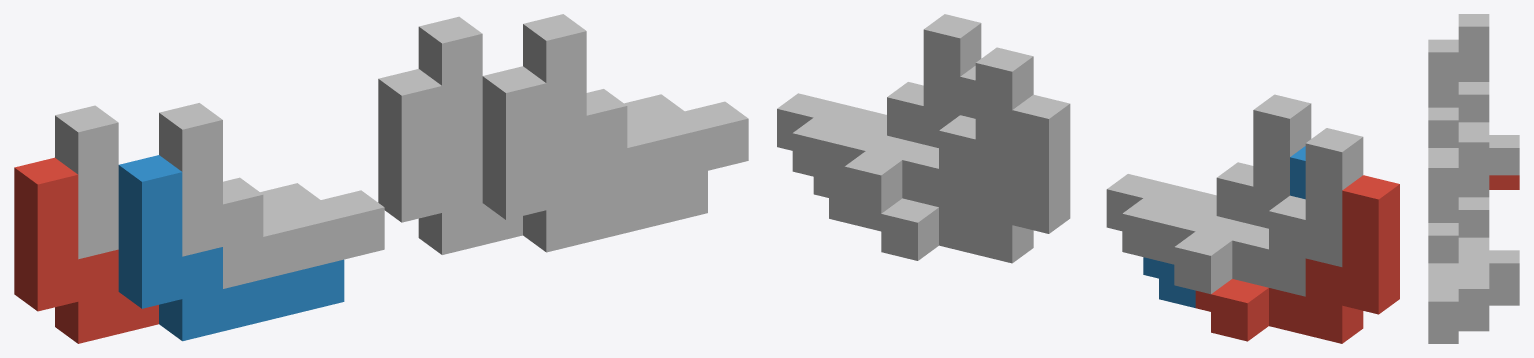
File: tiling.obj
3 renders of one model, left to right at view 1: azimuth 30°, elevation 25°; view 2: azimuth 150°, elevation 25°; view 3: azimuth 270°, elevation 25°, orthographic. The views are drawn at different scales.
Visible parts, largest first — view 1: copy_1_domain_8, copy_1_domain_4, copy_1_domain_2, copy_1_domain_6, copy_1_domain_1, copy_1_domain_5, copy_1_domain_7, copy_1_domain_3; view 2: copy_1_domain_3, copy_1_domain_7, copy_1_domain_5, copy_1_domain_1, copy_1_domain_4, copy_1_domain_8, copy_1_domain_2, copy_1_domain_6; view 3: copy_1_domain_8, copy_1_domain_7, copy_1_domain_3, copy_1_domain_4, copy_1_domain_6, copy_1_domain_5, copy_1_domain_1.
Boxes of the visible parts, <box> form: copy_1_domain_8: <box>523,14,748,200</box>; copy_1_domain_4: <box>159,103,384,288</box>; copy_1_domain_2: <box>118,155,344,341</box>; copy_1_domain_6: <box>482,66,707,252</box>; copy_1_domain_1: <box>14,157,158,343</box>; copy_1_domain_5: <box>378,69,522,254</box>; copy_1_domain_7: <box>418,16,643,170</box>; copy_1_domain_3: <box>55,105,279,259</box>; copy_1_domain_3: <box>1159,128,1363,296</box>; copy_1_domain_7: <box>829,47,1033,215</box>; copy_1_domain_5: <box>865,94,1070,263</box>; copy_1_domain_1: <box>1195,175,1399,343</box>; copy_1_domain_4: <box>1106,94,1311,260</box>; copy_1_domain_8: <box>777,14,981,180</box>; copy_1_domain_2: <box>1143,146,1305,307</box>; copy_1_domain_6: <box>813,66,975,227</box>; copy_1_domain_8: <box>1428,155,1489,329</box>; copy_1_domain_7: <box>1458,129,1519,290</box>; copy_1_domain_3: <box>1458,14,1519,175</box>; copy_1_domain_4: <box>1428,39,1458,154</box>; copy_1_domain_6: <box>1428,316,1489,343</box>; copy_1_domain_5: <box>1489,290,1519,305</box>; copy_1_domain_1: <box>1489,175,1519,189</box>.
Size of the model in its own units: 17 by 5 by 3.
